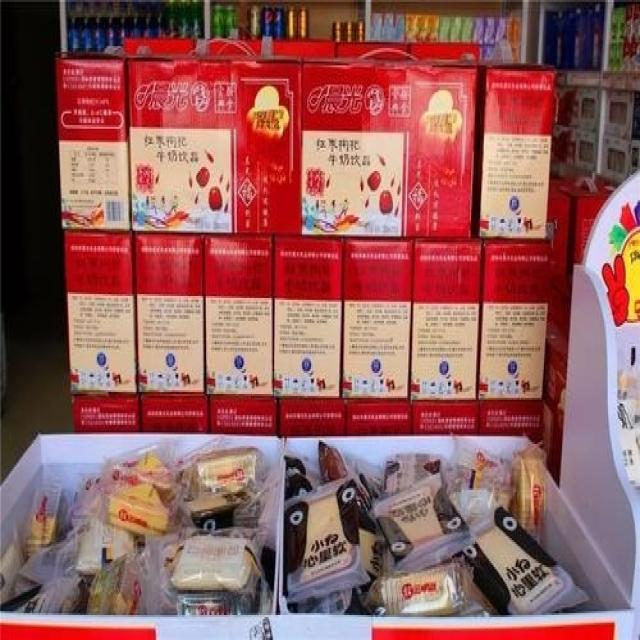box: (125, 56, 302, 234), (302, 58, 477, 238), (472, 60, 557, 236), (55, 50, 131, 229), (410, 231, 484, 400), (476, 238, 550, 400), (64, 231, 137, 392), (343, 236, 415, 398), (133, 234, 205, 394), (274, 234, 343, 396), (204, 234, 273, 396), (547, 175, 609, 342), (124, 38, 337, 56), (337, 40, 480, 60), (543, 319, 568, 431), (477, 400, 543, 442), (140, 392, 207, 432), (72, 392, 138, 432), (279, 398, 346, 436), (209, 396, 276, 432), (346, 398, 411, 434), (411, 400, 479, 434), (602, 133, 639, 183), (604, 90, 640, 140), (543, 400, 562, 486), (575, 129, 598, 171), (577, 88, 599, 131)
